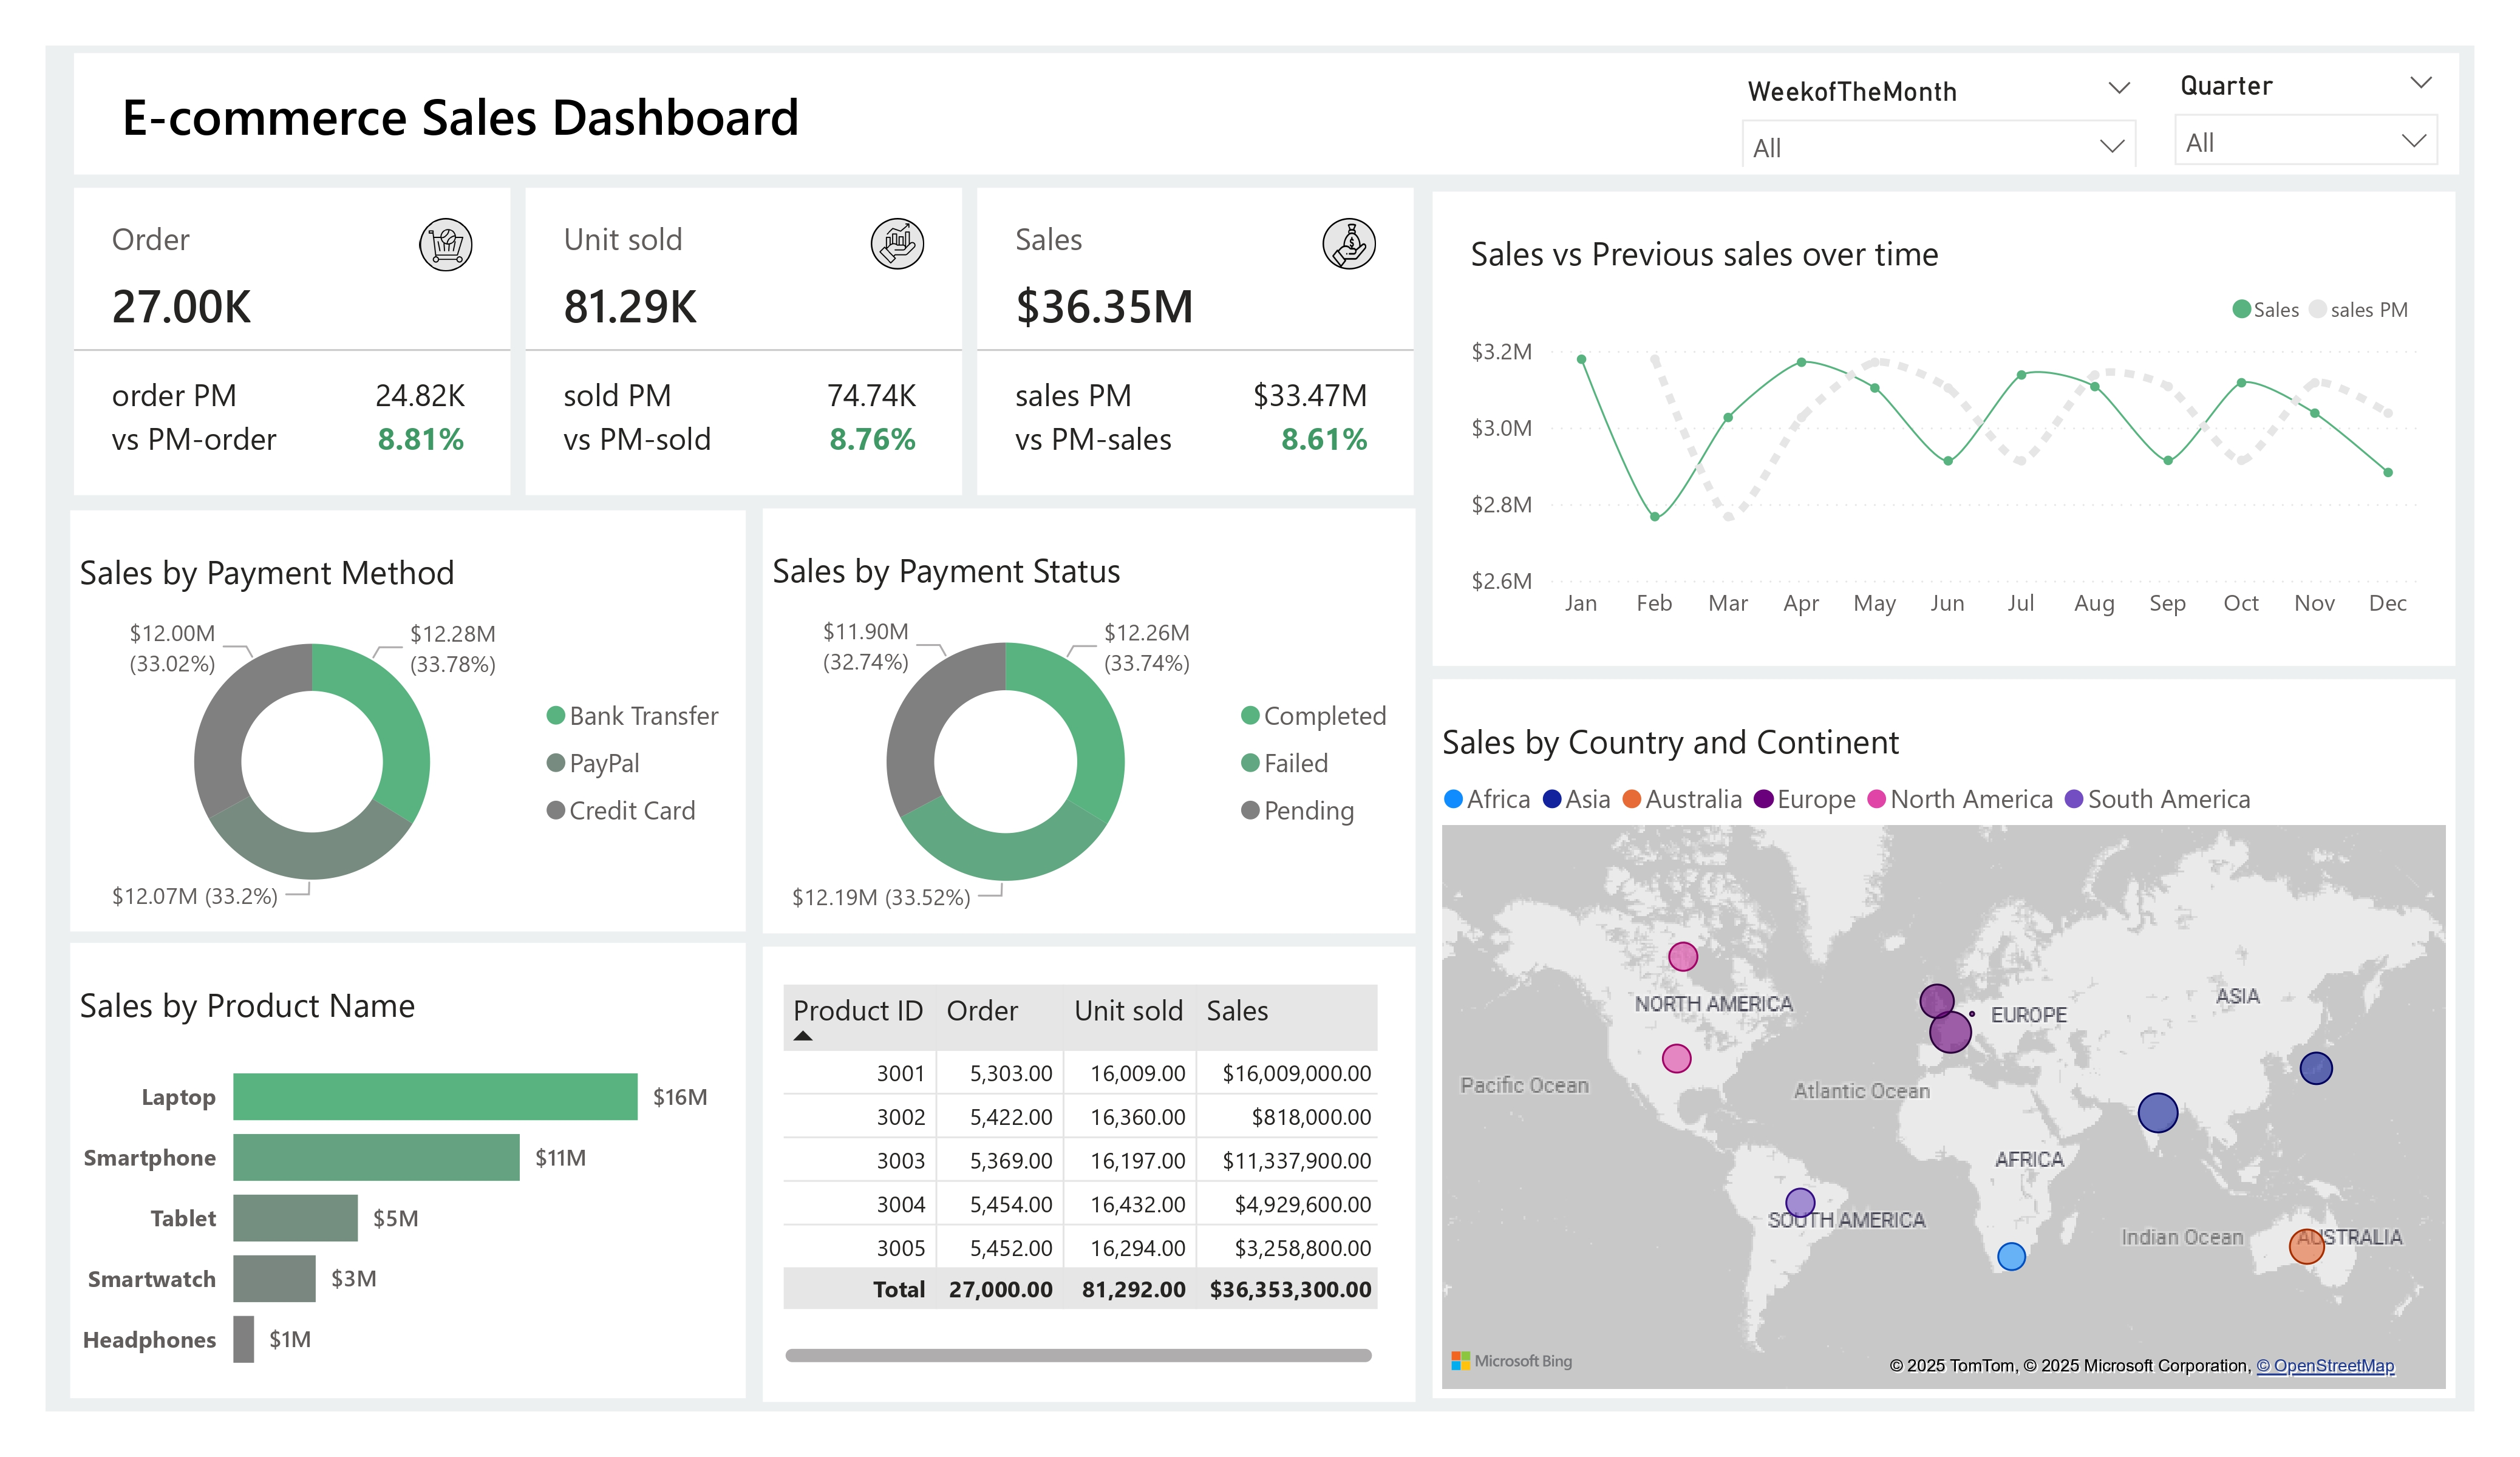

This screenshot's page, from the dashboard's own definition file:
{"tool":"powerbi","page":{"name":"E-Commerce","canvas":[1280,720],"ordinal":0},"visuals":[{"type":"shape","box":[0,0,1280,719.7],"z":0},{"type":"cardVisual","fields":{"Data":["Measure.Order","Measure.Unit sold","Measure.Sales"]},"box":[10.3,70,718.1,171.5],"z":1000},{"type":"shape","box":[15.3,3.5,1256.5,64.7],"z":2000},{"type":"donutChart","fields":{"Category":["ecommerce_data.Payment Status"],"Y":["Measure.Sales"]},"box":[378.3,244.1,344.2,224.3],"z":3000},{"type":"slicer","title":"Week","fields":{"Values":["Calendar.WeekofTheMonth"]},"box":[883.5,10.6,228.2,52.9],"z":4000},{"type":"lineChart","title":"Sales vs Previous sales over time","fields":{"Category":["Calendar.Monthname"],"Y":["Measure.Sales","Measure.sales PM"]},"box":[731.3,77.3,538.8,249.6],"z":5000},{"type":"donutChart","fields":{"Category":["ecommerce_data.Payment Method"],"Y":["Measure.Sales"]},"box":[13.2,245.2,356.3,222.1],"z":6000},{"type":"slicer","title":"Quarter","fields":{"Values":["Calendar.Quarter"]},"box":[1111.8,8.2,158.8,55.3],"z":7000},{"type":"barChart","fields":{"Category":["ecommerce_data.Product Name"],"Y":["Measure.Sales"]},"box":[13.2,472.9,356.3,239.7],"z":8000},{"type":"tableEx","fields":{"Values":["ecommerce_data.Product ID","Measure.Order","Measure.Unit sold","Measure.Sales"]},"box":[378.3,475.1,344.2,239.7],"z":9000},{"type":"map","fields":{"Category":["ecommerce_data.Country"],"Size":["Measure.Sales"]},"box":[731.3,334.3,538.8,378.3],"z":10000}]}

Visuals, with their boxes on the page's 1280x720 design canvas (x1, y1, x2, y2). These are canvas units, not pixel positions in the 2520x1457 screenshot, which may show the page scaled, cropped or inside an application window:
shape: region(0, 0, 1280, 720)
cardVisual - Measure.Order x Measure.Unit sold: region(10, 70, 728, 242)
shape: region(15, 4, 1272, 68)
donutChart - ecommerce_data.Payment Status x Measure.Sales: region(378, 244, 722, 468)
"Week" slicer: region(884, 11, 1112, 64)
"Sales vs Previous sales over time" lineChart: region(731, 77, 1270, 327)
donutChart - ecommerce_data.Payment Method x Measure.Sales: region(13, 245, 370, 467)
"Quarter" slicer: region(1112, 8, 1271, 64)
barChart - ecommerce_data.Product Name x Measure.Sales: region(13, 473, 370, 713)
tableEx - ecommerce_data.Product ID x Measure.Order: region(378, 475, 722, 715)
map - ecommerce_data.Country x Measure.Sales: region(731, 334, 1270, 713)
